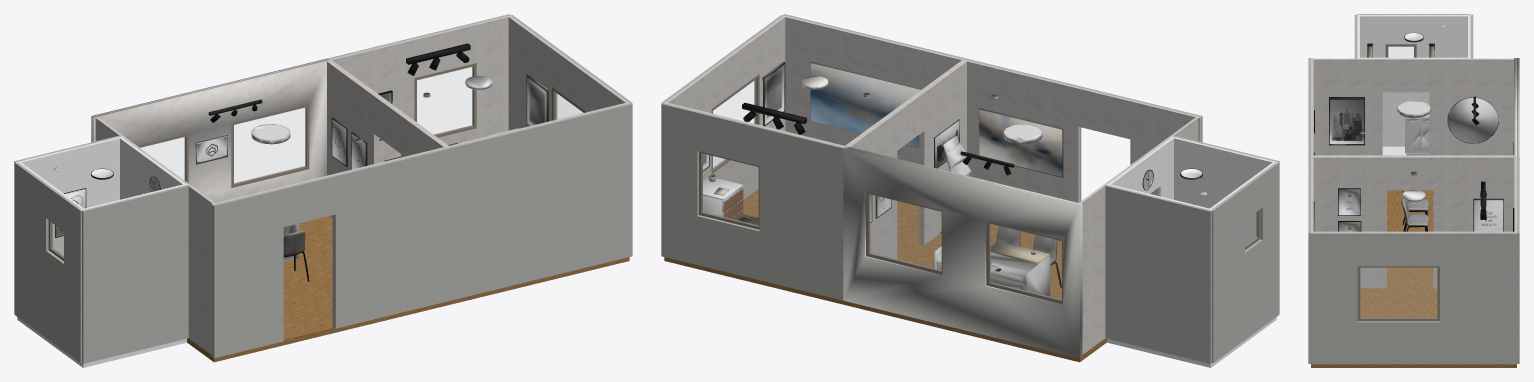
File: scene_named.glb
3 views of the same model, side by side, from view 1: azimuth 30°, elevation 25°; view 2: azimuth 150°, elevation 25°; view 3: azimuth 270°, elevation 25° (orthographic). The views are drawn at different scales.
Visible parts, largest first — view 1: south_wall_exterior_reception/south_wall_exterior_reception/, south_wall_exterior_office/south_wall_exterior_office/geomet, south_wall_exterior_bathroom/south_wall_exterior_bathroom/ge, north_wall_reception/north_wall_reception/geometry_0, west_wall_exterior_bathroom/west_wall_exterior_bathroom/geom, north_wall_office/north_wall_office/geometry_0, floor_reception, east_wall_reception/east_wall_reception/geometry_0, east_wall_office/east_wall_office/geometry_0, west_wall_reception/west_wall_reception/geometry_0, north_wall_bathroom/north_wall_bathroom/geometry_0, window_2_reception/window_2_reception/glass (+16 smaller); view 2: north_wall_exterior_reception/north_wall_exterior_reception/, north_wall_exterior_office/north_wall_exterior_office/geomet, north_wall_exterior_bathroom/north_wall_exterior_bathroom/ge, south_wall_reception/south_wall_reception/geometry_0, west_wall_exterior_bathroom/west_wall_exterior_bathroom/geom, south_wall_office/south_wall_office/geometry_0, east_wall_reception/east_wall_reception/geometry_0, east_wall_office/east_wall_office/geometry_0, canvas_artwork_0, south_wall_bathroom/south_wall_bathroom/geometry_0, west_wall_reception/west_wall_reception/geometry_0, window_2_reception/window_2_reception/glass (+22 smaller); view 3: east_wall_exterior_office/east_wall_exterior_office/geometry, west_wall_reception/west_wall_reception/geometry_0, west_wall_office/west_wall_office/geometry_0, west_wall_bathroom/west_wall_bathroom/geometry_0, window_4_office/window_4_office/glass, floor_office, floor_reception, mirror_0, poster_0, quote_print_0, window_4_office/window_4_office/frame, certificate_1 (+21 smaller).
Boxes of the visible parts, bbox=[...] form: south_wall_exterior_reception/south_wall_exterior_reception/: bbox=[212, 147, 449, 358]; south_wall_exterior_office/south_wall_exterior_office/geomet: bbox=[447, 103, 632, 301]; south_wall_exterior_bathroom/south_wall_exterior_bathroom/ge: bbox=[82, 184, 189, 363]; north_wall_reception/north_wall_reception/geometry_0: bbox=[92, 59, 330, 202]; west_wall_exterior_bathroom/west_wall_exterior_bathroom/geom: bbox=[14, 162, 81, 362]; north_wall_office/north_wall_office/geometry_0: bbox=[328, 15, 512, 162]; floor_reception: bbox=[187, 216, 447, 362]; east_wall_reception/east_wall_reception/geometry_0: bbox=[327, 61, 445, 217]; east_wall_office/east_wall_office/geometry_0: bbox=[508, 16, 627, 130]; west_wall_reception/west_wall_reception/geometry_0: bbox=[95, 117, 214, 354]; north_wall_bathroom/north_wall_bathroom/geometry_0: bbox=[16, 136, 123, 255]; window_2_reception/window_2_reception/glass: bbox=[234, 108, 305, 183]; north_wall_exterior_reception/north_wall_exterior_reception/: bbox=[843, 148, 1081, 358]; north_wall_exterior_office/north_wall_exterior_office/geomet: bbox=[661, 103, 846, 300]; north_wall_exterior_bathroom/north_wall_exterior_bathroom/ge: bbox=[1104, 184, 1211, 363]; south_wall_reception/south_wall_reception/geometry_0: bbox=[963, 59, 1201, 202]; west_wall_exterior_bathroom/west_wall_exterior_bathroom/geom: bbox=[1212, 162, 1279, 362]; south_wall_office/south_wall_office/geometry_0: bbox=[781, 15, 965, 163]; east_wall_reception/east_wall_reception/geometry_0: bbox=[848, 61, 966, 258]; east_wall_office/east_wall_office/geometry_0: bbox=[666, 16, 785, 199]; canvas_artwork_0: bbox=[810, 62, 921, 147]; south_wall_bathroom/south_wall_bathroom/geometry_0: bbox=[1170, 136, 1277, 244]; west_wall_reception/west_wall_reception/geometry_0: bbox=[1079, 117, 1198, 354]; window_2_reception/window_2_reception/glass: bbox=[869, 194, 941, 270]; east_wall_exterior_office/east_wall_exterior_office/geometry: bbox=[1311, 232, 1516, 364]; west_wall_reception/west_wall_reception/geometry_0: bbox=[1313, 58, 1514, 155]; west_wall_office/west_wall_office/geometry_0: bbox=[1313, 156, 1514, 288]; west_wall_bathroom/west_wall_bathroom/geometry_0: bbox=[1360, 15, 1469, 146]; window_4_office/window_4_office/glass: bbox=[1360, 268, 1436, 317]; floor_office: bbox=[1311, 287, 1516, 367]; floor_reception: bbox=[1387, 190, 1433, 287]; mirror_0: bbox=[1447, 97, 1498, 143]; poster_0: bbox=[1329, 97, 1364, 145]; quote_print_0: bbox=[1473, 198, 1503, 231]; window_4_office/window_4_office/frame: bbox=[1357, 266, 1439, 321]; certificate_1: bbox=[1338, 188, 1360, 215].
Size of the model in its own units: 10.1 by 2.9 by 4.1.
68 materials, 56 textured.
